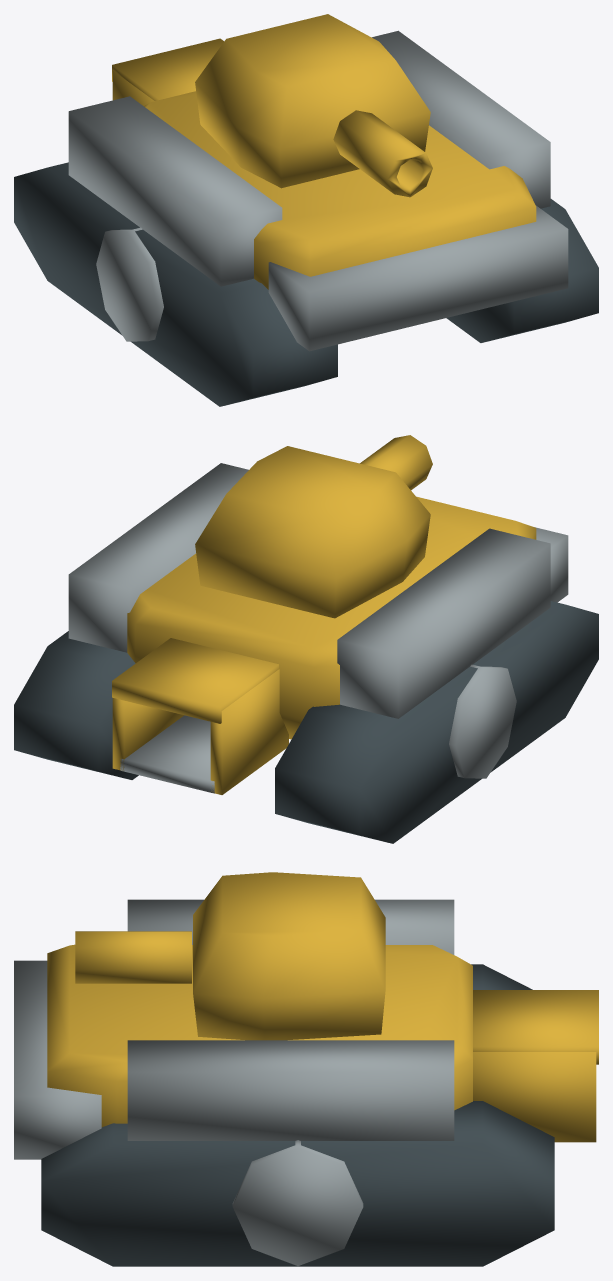
Rendered from TOY_MINER.shadow.glb.
3 views of the same model, one above another, from view 1: azimuth 30°, elevation 25°; view 2: azimuth 150°, elevation 25°; view 3: azimuth 270°, elevation 25° (orthographic). The views are drawn at different scales.
Visible parts, largest first — view 1: Body, TurretYaw, WheelLeft, BarrelRecoil; view 2: Body, TurretYaw, WheelLeft, BarrelRecoil; view 3: Body, TurretYaw, WheelRight, BarrelRecoil.
Part boxes in pixels (box(x1,y1,x2,y2)): Body: box(14, 30, 598, 406); TurretYaw: box(195, 14, 430, 188); WheelLeft: box(96, 227, 163, 341); BarrelRecoil: box(333, 110, 432, 197); Body: box(14, 463, 598, 843); TurretYaw: box(195, 446, 430, 618); WheelLeft: box(449, 664, 516, 778); BarrelRecoil: box(360, 435, 432, 490); Body: box(14, 899, 598, 1266); TurretYaw: box(193, 872, 385, 1040); WheelRight: box(232, 1140, 363, 1265); BarrelRecoil: box(75, 931, 191, 983).
Size of the model in its own units: 0.7638 by 0.515 by 1.
